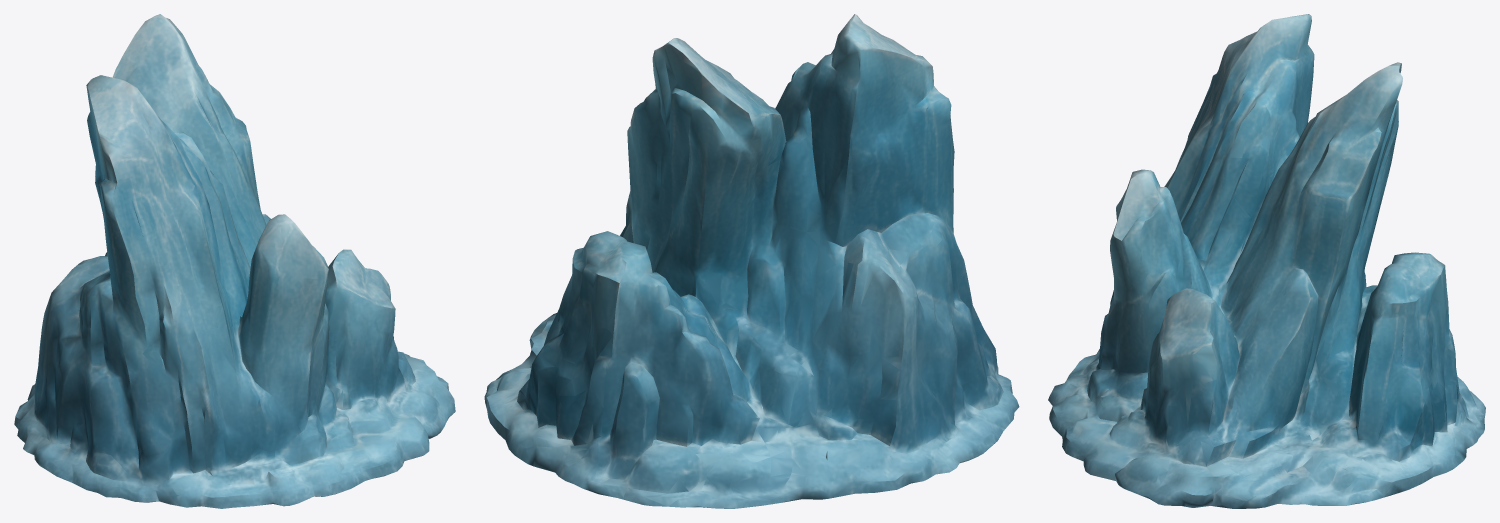
The picture shows the model from 3 angles, left to right: view 1: azimuth 30°, elevation 25°; view 2: azimuth 150°, elevation 25°; view 3: azimuth 270°, elevation 25°; orthographic projection. The views are drawn at different scales.
Parts seen in each view (by area): view 1: glacier-spires.001; view 2: glacier-spires.001; view 3: glacier-spires.001.
Part boxes in pixels (x1,y1,x2,y2): glacier-spires.001: (14,14,455,508); glacier-spires.001: (484,14,1019,508); glacier-spires.001: (1048,14,1485,508).
Size of the model in its own units: 14.62 by 12.99 by 14.57.
1 material, 1 textured.
